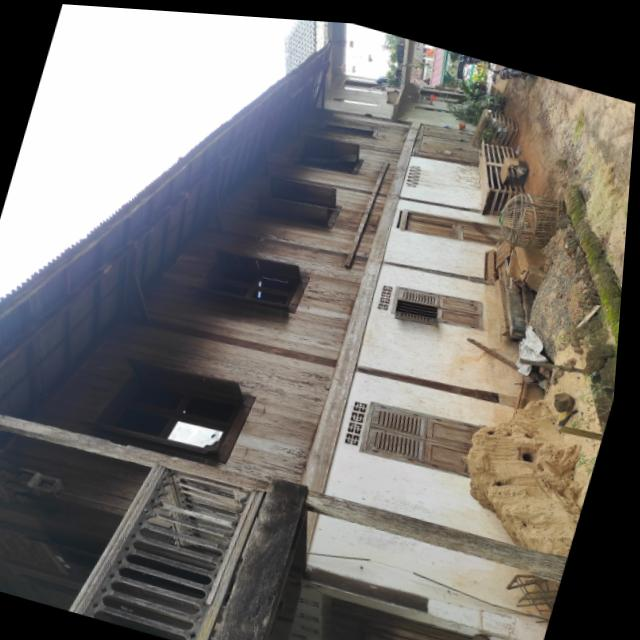Atap: (0, 43, 330, 421)
Ornamen: (68, 466, 264, 640)
Pintu: (395, 209, 504, 248)
jendela: (190, 249, 309, 312), (250, 177, 341, 228)
